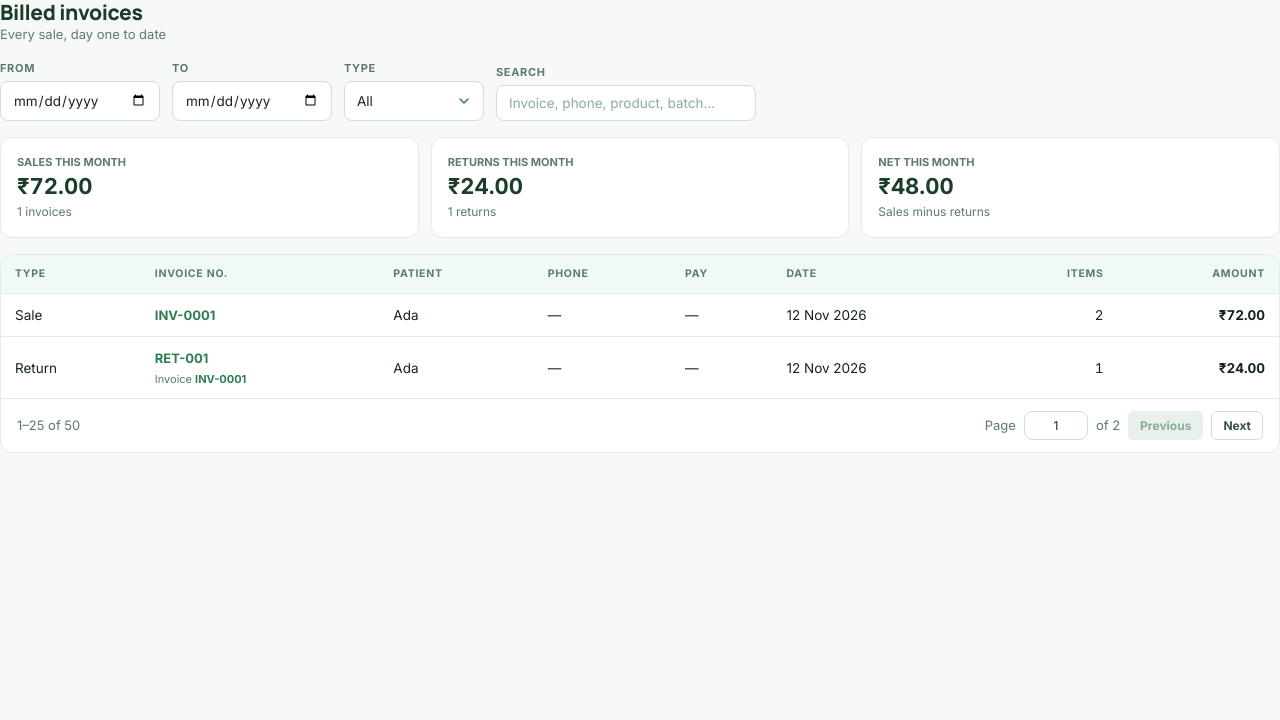
Test case: SalesPage › opens a return summary without print
The width and height of the screenshot is (1280, 720).
Step 1. Click the button "RET-001" → (182, 358), box [155,350,208,366]
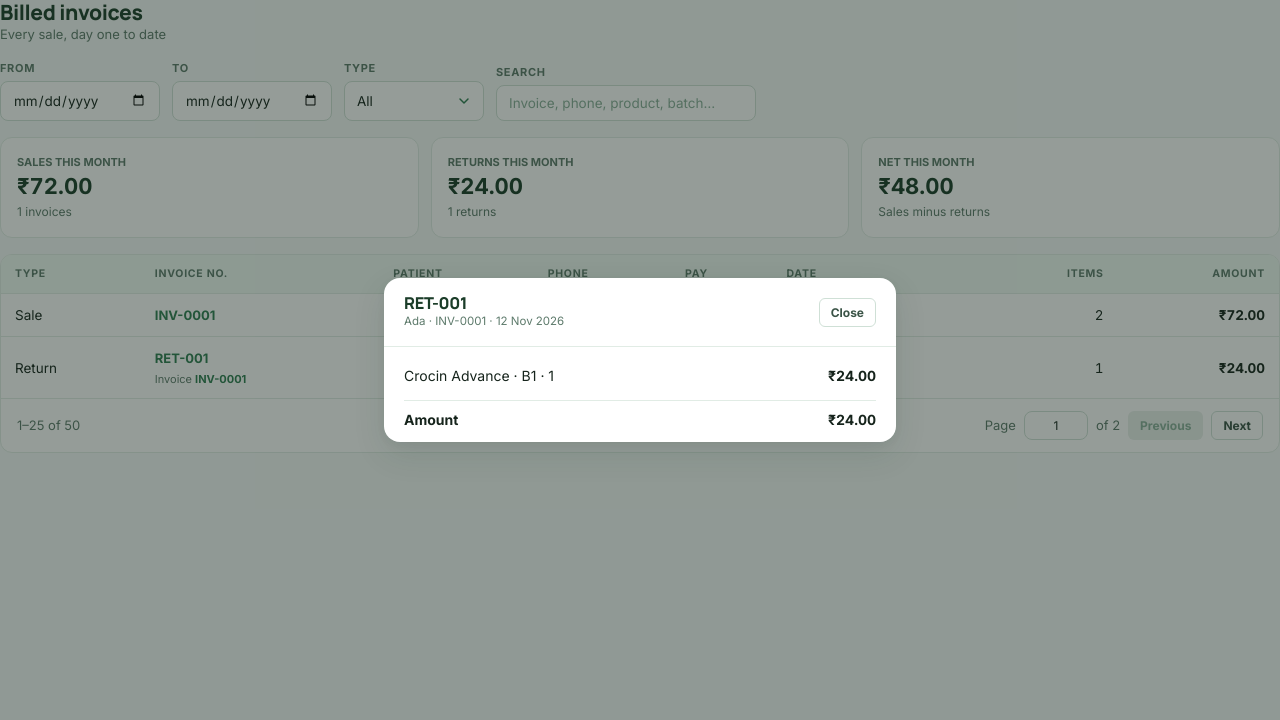
Expected: the dialog named "Return summary" is shown
